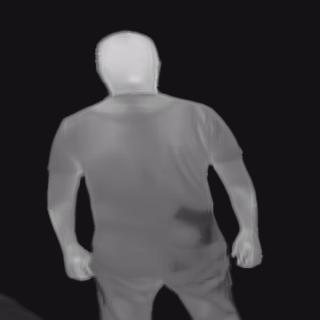Gun: (173, 206, 214, 247)
